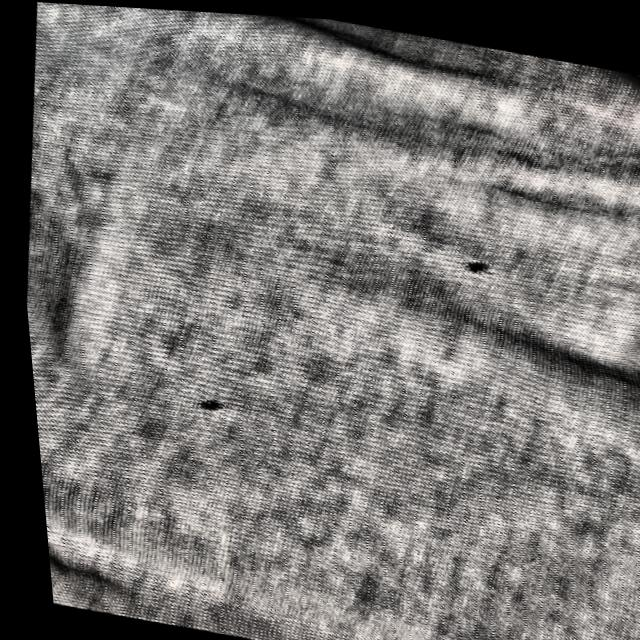Hole: (177, 386, 229, 416), (450, 247, 497, 274)
